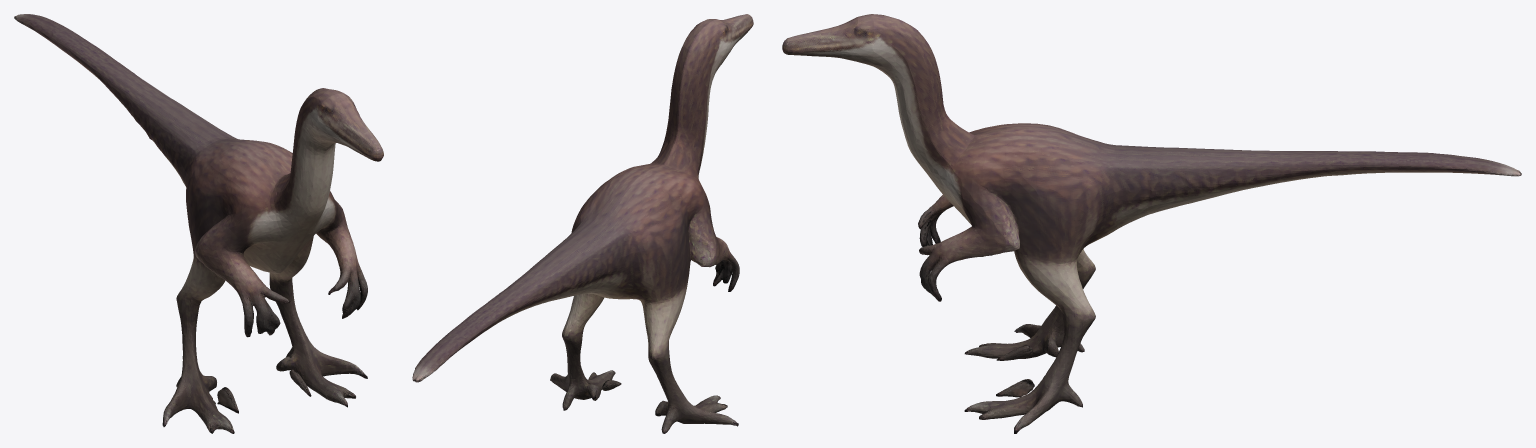
3 renders of one model, left to right at view 1: azimuth 30°, elevation 25°; view 2: azimuth 150°, elevation 25°; view 3: azimuth 270°, elevation 25°, orthographic. The views are drawn at different scales.
Visible parts, largest first — view 1: world; view 2: world; view 3: world.
Part boxes in pixels (x1,y1,x2,y2): world: [14, 14, 383, 433]; world: [412, 14, 753, 433]; world: [782, 14, 1521, 433].
Size of the model in its own units: 0.2434 by 0.4146 by 0.75.
Materials: 1 (1 with a texture image).
